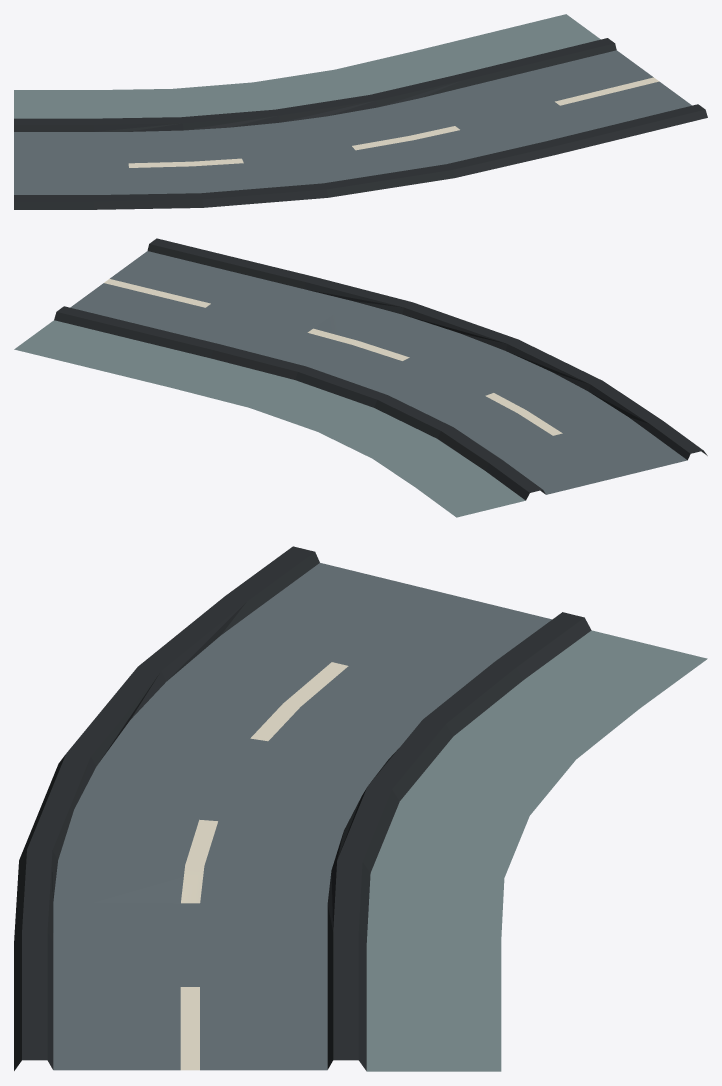
The model's file is Tentacule_Route_003.FBX.
3 renders of one model, top to bottom at view 1: azimuth 30°, elevation 25°; view 2: azimuth 150°, elevation 25°; view 3: azimuth 270°, elevation 25°, orthographic. The views are drawn at different scales.
Visible parts, largest first — view 1: Tentacule_Terrain_003_-30; view 2: Tentacule_Terrain_003_-30; view 3: Tentacule_Terrain_003_-30.
Boxes of the visible parts, x1,y1,x2,y2 form: Tentacule_Terrain_003_-30: (14, 14, 707, 209); Tentacule_Terrain_003_-30: (14, 238, 707, 517); Tentacule_Terrain_003_-30: (14, 546, 707, 1071).
Size of the model in its own units: 256 by 2.59 by 145.
